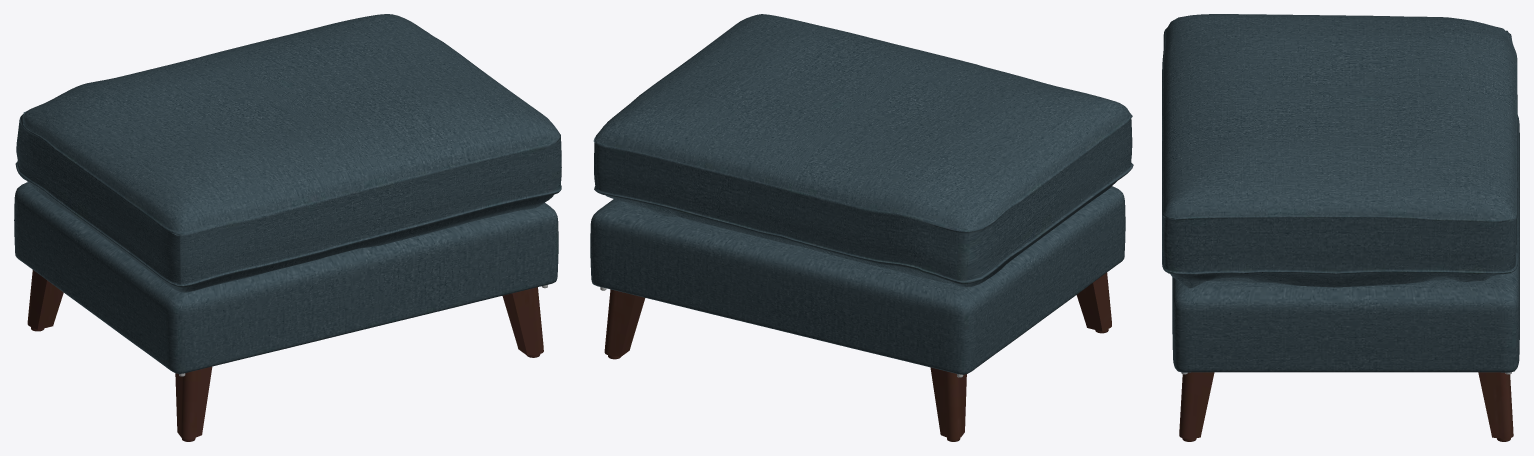
File: abo-B07BWKH16K.glb
3 renders of one model, left to right at view 1: azimuth 30°, elevation 25°; view 2: azimuth 150°, elevation 25°; view 3: azimuth 270°, elevation 25°, orthographic. The views are drawn at different scales.
Size of the model in its own units: 0.835 by 0.503 by 0.629.
Materials: 1 (1 with a texture image).
